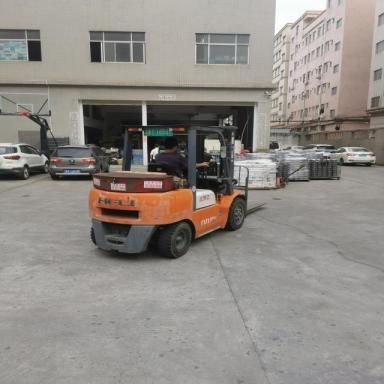forklift: (82, 122, 251, 268)
